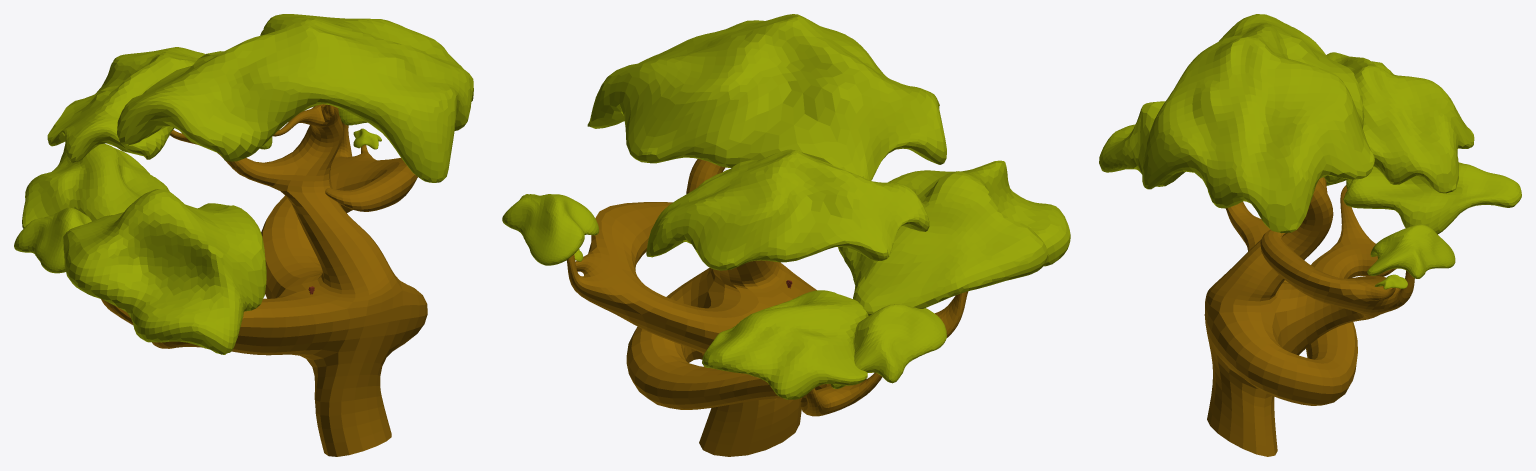
The model's file is MonkeyBanana.glb.
3 views of the same model, side by side, from view 1: azimuth 30°, elevation 25°; view 2: azimuth 150°, elevation 25°; view 3: azimuth 270°, elevation 25° (orthographic). The views are drawn at different scales.
Visible parts, largest first — view 1: Tree; view 2: Tree; view 3: Tree.
Part boxes in pixels (<box>): Tree: <box>14,14,473,456</box>; Tree: <box>502,14,1070,456</box>; Tree: <box>1099,14,1521,456</box>.
Bounding box in the file's own units: 15.7 × 15.1 × 15.01.
